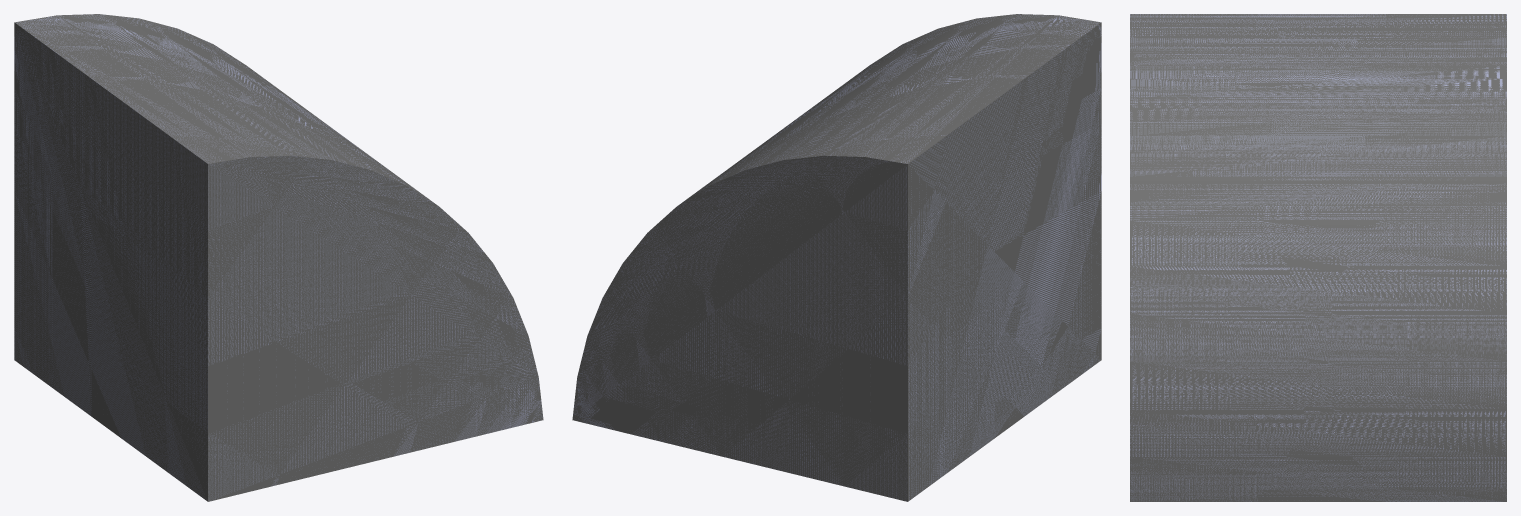
The picture shows the model from 3 angles, left to right: view 1: azimuth 30°, elevation 25°; view 2: azimuth 150°, elevation 25°; view 3: azimuth 270°, elevation 25°; orthographic projection. The views are drawn at different scales.
Visible parts, largest first — view 1: group_0; view 2: group_0; view 3: group_0.
Part boxes in pixels (<box>): group_0: <box>14,14,543,501</box>; group_0: <box>572,14,1101,501</box>; group_0: <box>1130,14,1506,501</box>.
Size of the model in its own units: 35.28 by 35.28 by 33.95.
